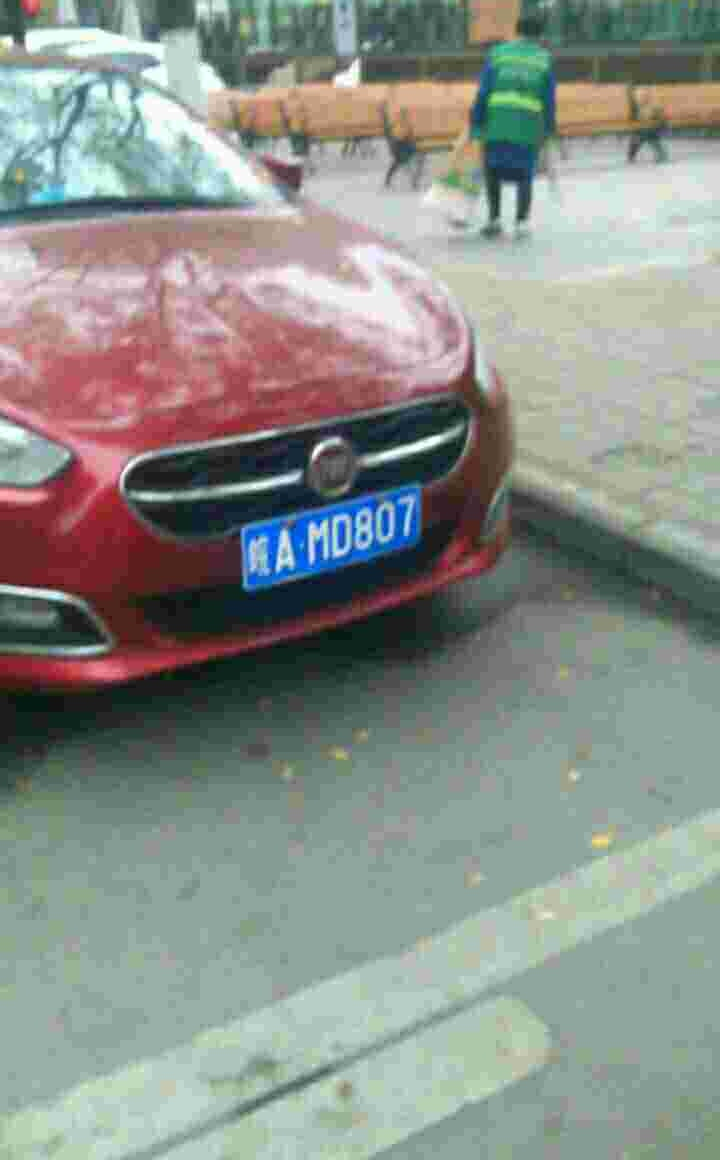car: (238, 480, 447, 590)
